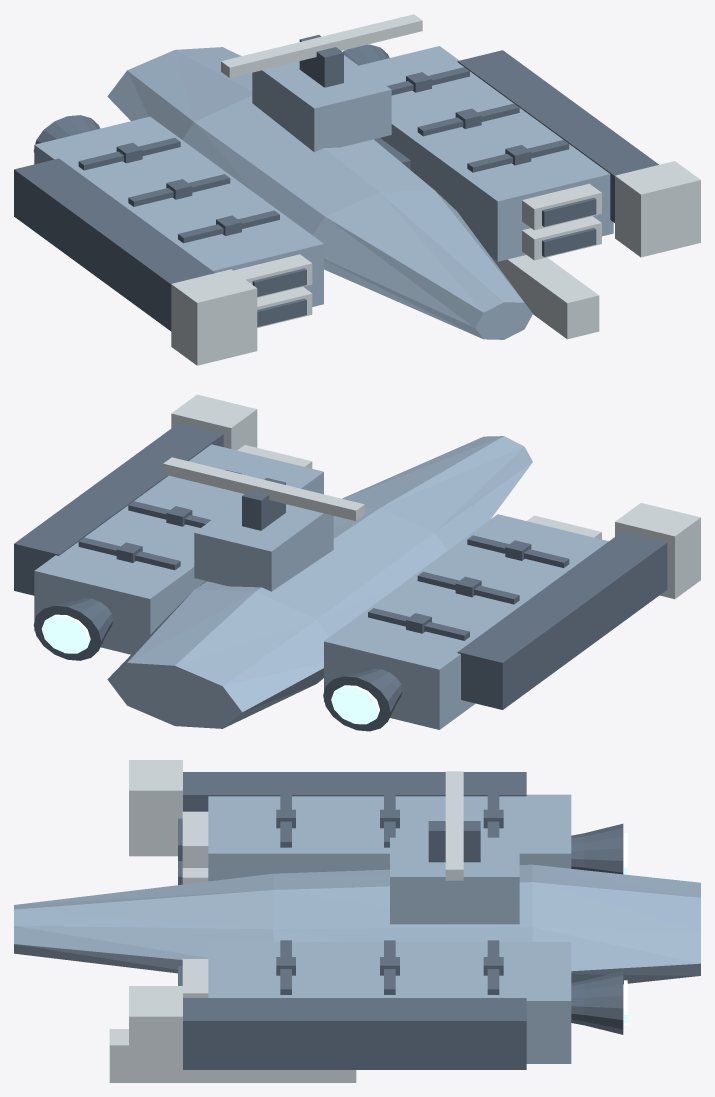
The picture shows the model from 3 angles, top to bottom: view 1: azimuth 30°, elevation 25°; view 2: azimuth 150°, elevation 25°; view 3: azimuth 270°, elevation 25°; orthographic projection. The views are drawn at different scales.
Size of the model in its own units: 13.42 by 5.01 by 15.2.
